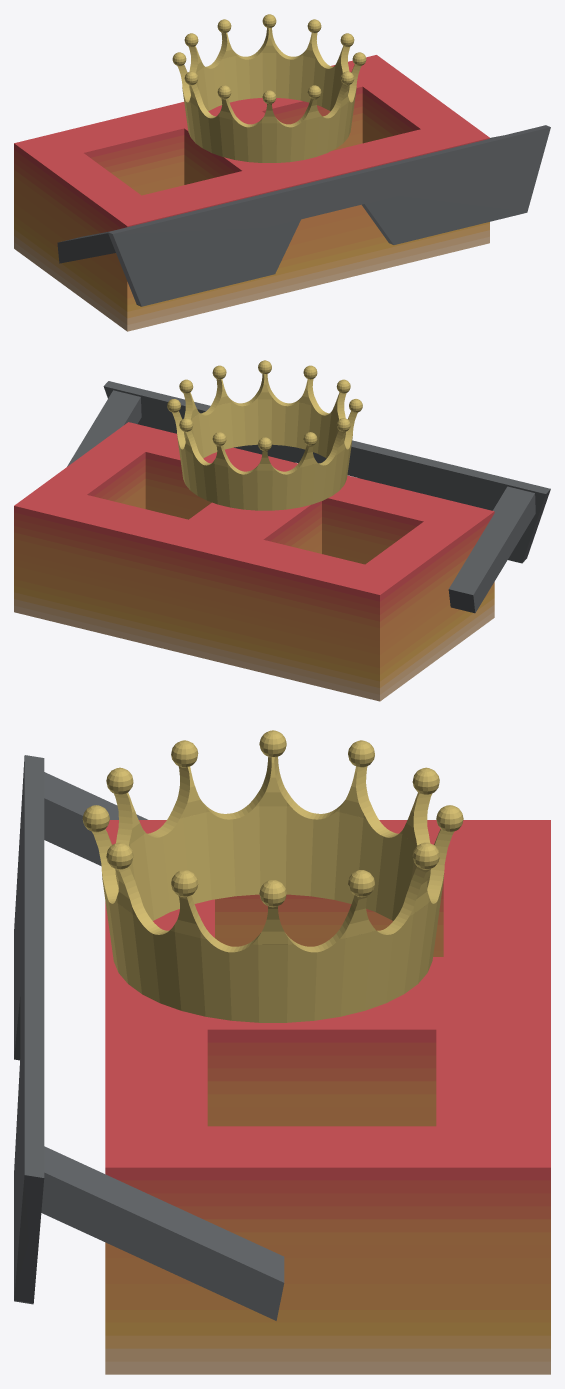
The model's file is Spectacular Stantia.glb.
3 renders of one model, top to bottom at view 1: azimuth 30°, elevation 25°; view 2: azimuth 150°, elevation 25°; view 3: azimuth 270°, elevation 25°, orthographic. The views are drawn at different scales.
Visible parts, largest first — view 1: Mesh_Mesh_head_geo.001_lambert2SG.001; view 2: Mesh_Mesh_head_geo.001_lambert2SG.001; view 3: Mesh_Mesh_head_geo.001_lambert2SG.001.
Boxes of the visible parts, bbox=[...] form: Mesh_Mesh_head_geo.001_lambert2SG.001: bbox=[14, 14, 550, 331]; Mesh_Mesh_head_geo.001_lambert2SG.001: bbox=[14, 360, 550, 701]; Mesh_Mesh_head_geo.001_lambert2SG.001: bbox=[14, 730, 550, 1374].
Bounding box in the file's own units: 87 × 38.4 × 47.
